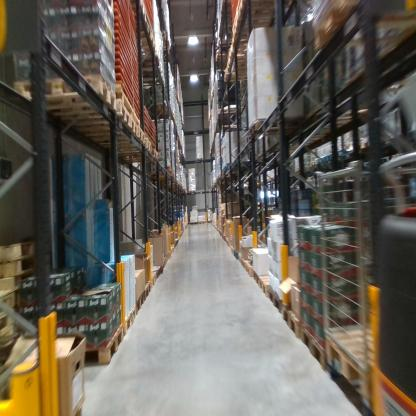forklift: (371, 5, 412, 411)
pallet: (12, 68, 119, 123), (310, 4, 368, 56), (327, 324, 365, 395), (56, 95, 132, 129), (71, 322, 124, 370), (72, 109, 139, 140), (79, 115, 144, 144), (247, 117, 308, 144), (296, 318, 324, 375), (80, 132, 152, 154), (2, 234, 36, 272), (2, 254, 35, 288), (223, 58, 263, 82), (110, 144, 160, 163), (257, 269, 278, 299), (142, 164, 176, 182), (270, 284, 284, 322), (0, 288, 18, 317), (1, 312, 21, 337), (150, 102, 176, 121), (286, 307, 300, 340), (122, 307, 136, 335), (133, 290, 145, 321), (247, 262, 263, 279), (215, 106, 242, 116), (141, 280, 151, 303), (252, 266, 260, 286), (238, 258, 247, 275), (147, 272, 156, 288), (155, 265, 162, 280), (188, 187, 197, 196), (197, 218, 206, 225), (162, 257, 167, 269), (166, 253, 170, 264), (190, 220, 198, 225)
